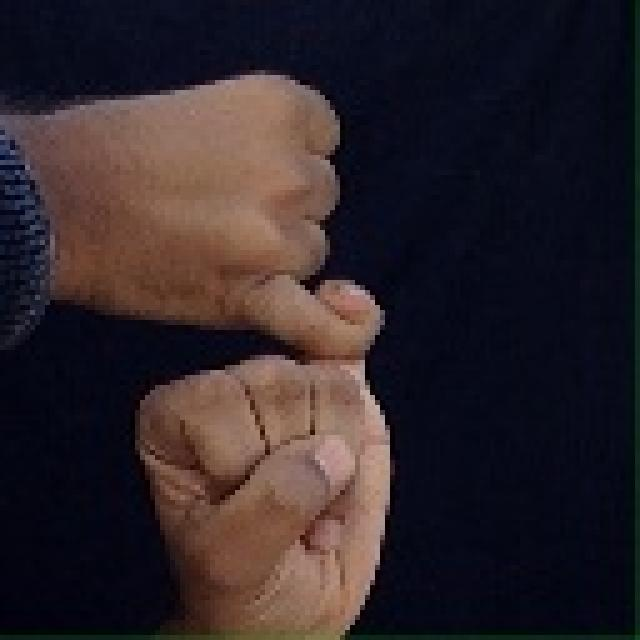Alphabet-S: (0, 40, 418, 639)
